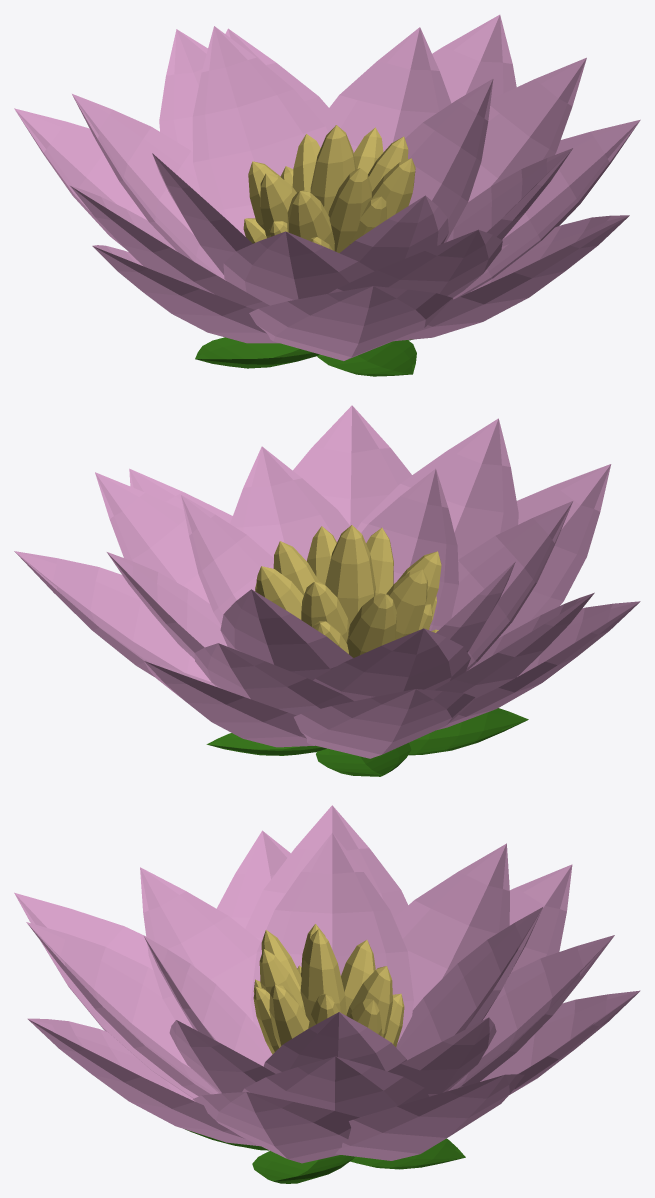
Rendered from water3.fbx.
3 renders of one model, top to bottom at view 1: azimuth 30°, elevation 25°; view 2: azimuth 150°, elevation 25°; view 3: azimuth 270°, elevation 25°, orthographic. The views are drawn at different scales.
Parts seen in each view (by area): view 1: Sphere.003; view 2: Sphere.003; view 3: Sphere.003.
Boxes of the visible parts, left/top/right/bottom form: Sphere.003: left=14, top=14, right=640, bottom=376; Sphere.003: left=14, top=405, right=640, bottom=776; Sphere.003: left=14, top=805, right=640, bottom=1183.
Size of the model in its own units: 444 by 190 by 449.
